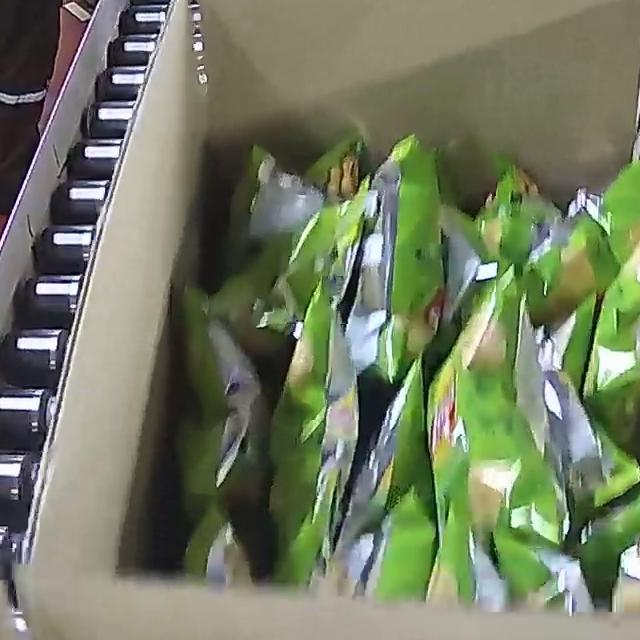yogurt: (183, 128, 640, 614)
